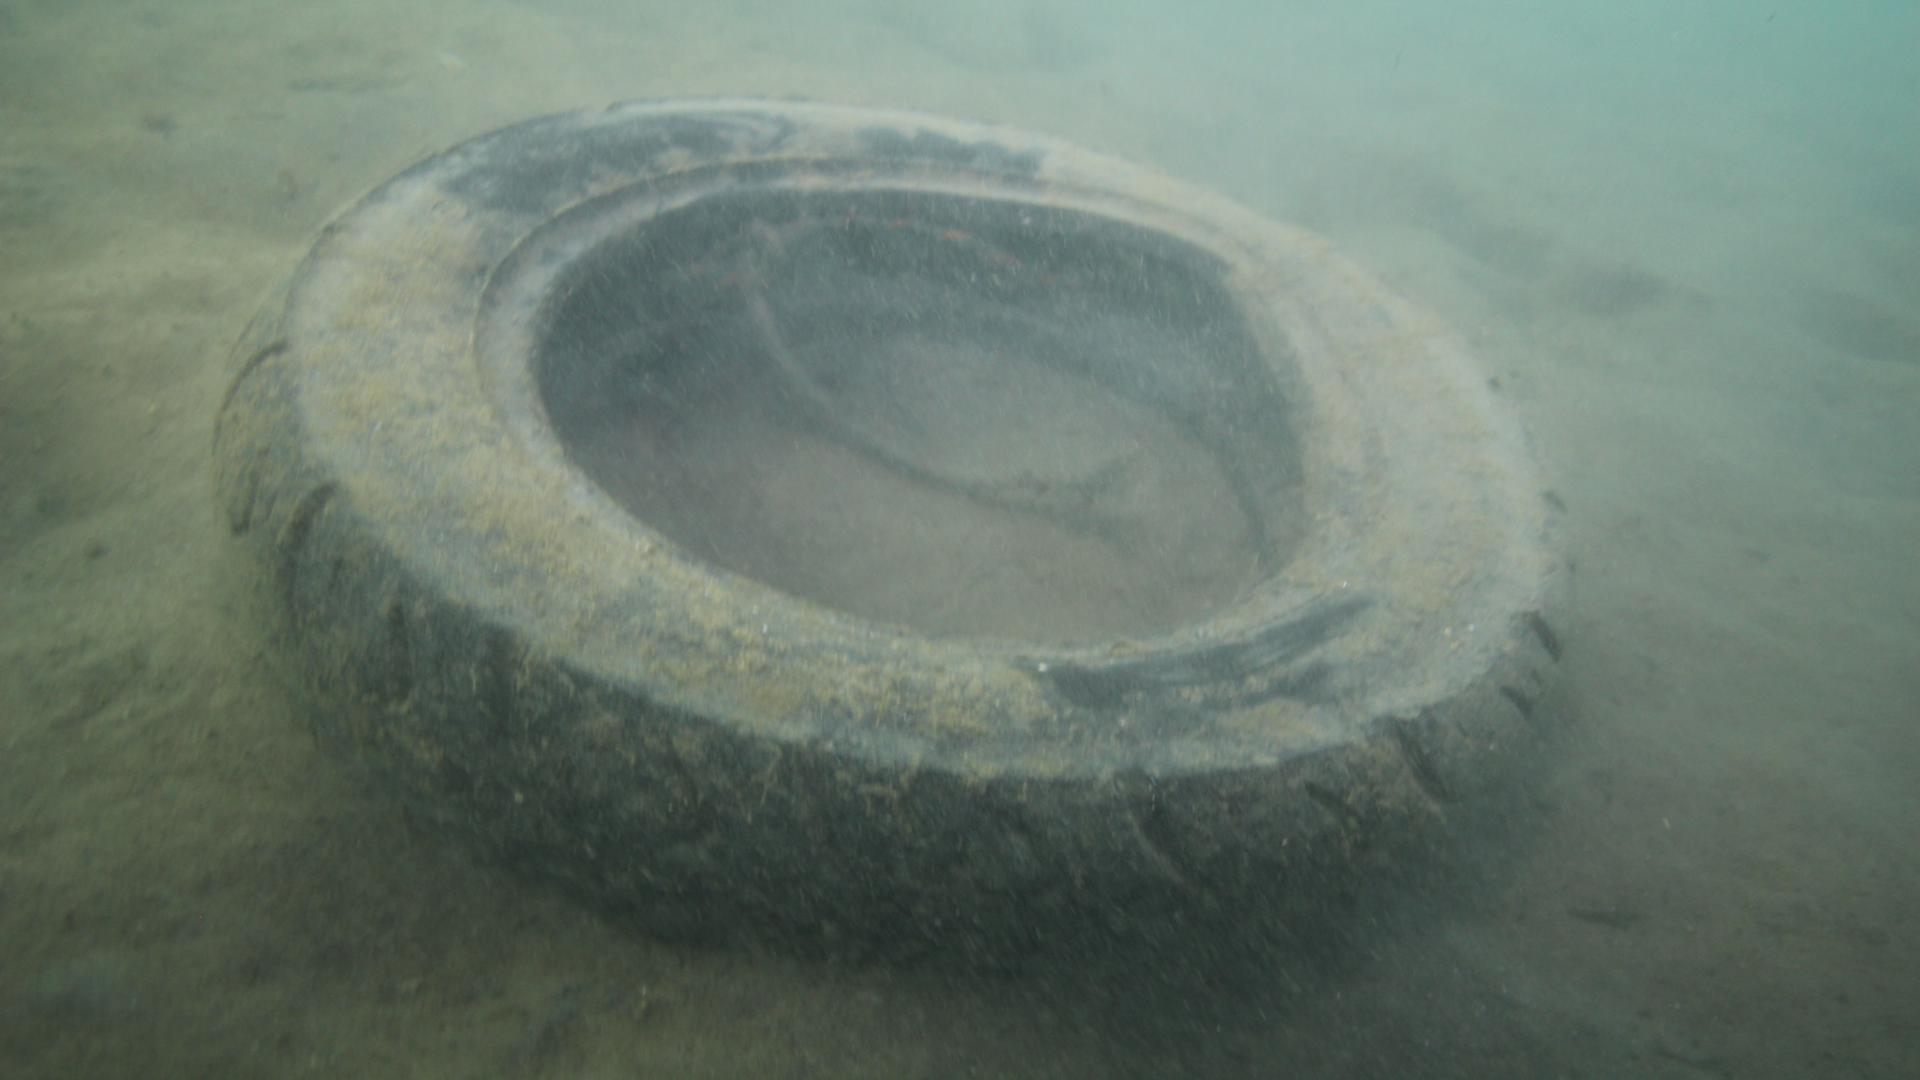rope: (729, 212, 1006, 510)
tire: (204, 90, 1584, 986)
